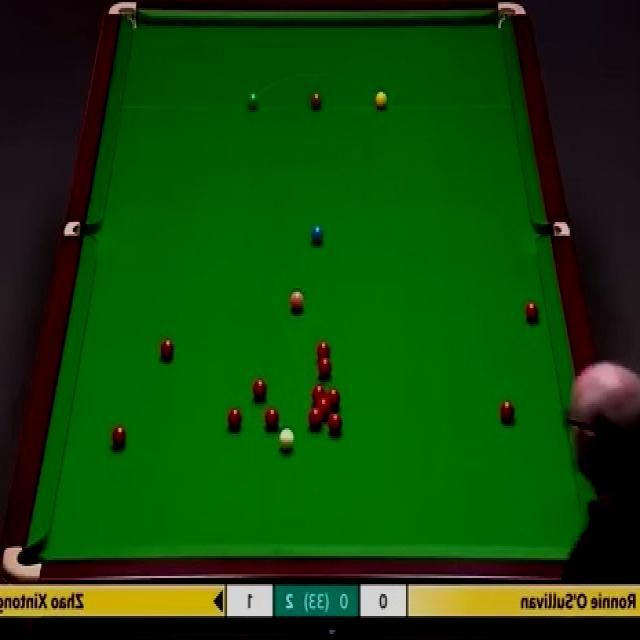blue-ball: (310, 222, 325, 245)
brown-ball: (310, 90, 323, 110)
green-ball: (247, 89, 260, 110)
pink-ball: (288, 291, 307, 312)
red-ball: (159, 337, 176, 362), (523, 301, 541, 324), (251, 376, 267, 401), (499, 399, 516, 422), (264, 407, 280, 431), (227, 408, 243, 432), (112, 425, 127, 449), (308, 408, 324, 430), (317, 357, 332, 378), (326, 390, 341, 410), (328, 412, 342, 433), (311, 384, 326, 403), (316, 342, 331, 361), (317, 398, 330, 416)
white-ball: (278, 428, 296, 454)
yellow-ball: (375, 90, 387, 110)
